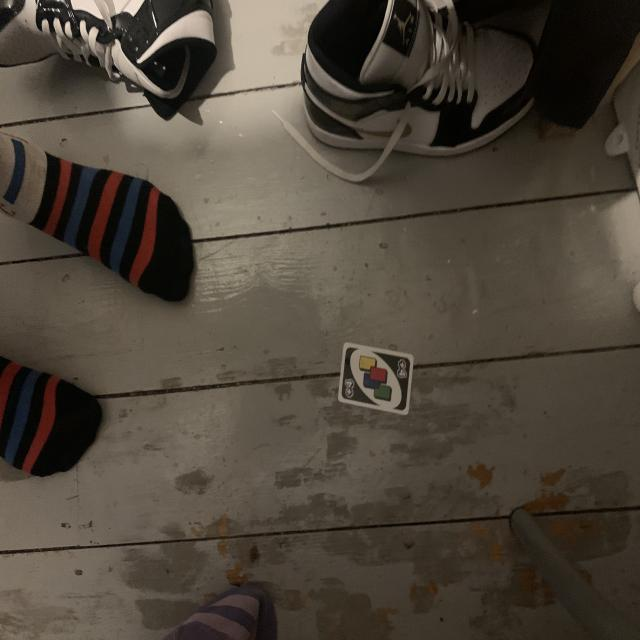lcolor-400: (342, 377, 357, 400)
